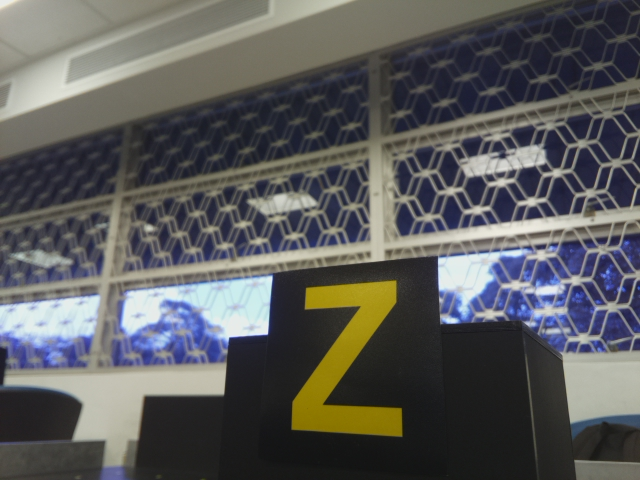z: (291, 279, 406, 438)
